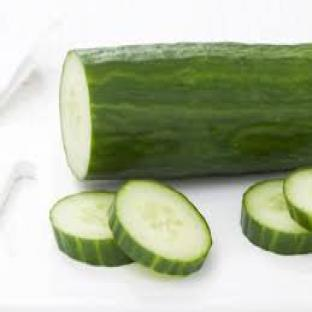Cucumber: (61, 44, 311, 178), (110, 181, 212, 275), (51, 192, 131, 265), (241, 181, 311, 254), (284, 168, 311, 229)
